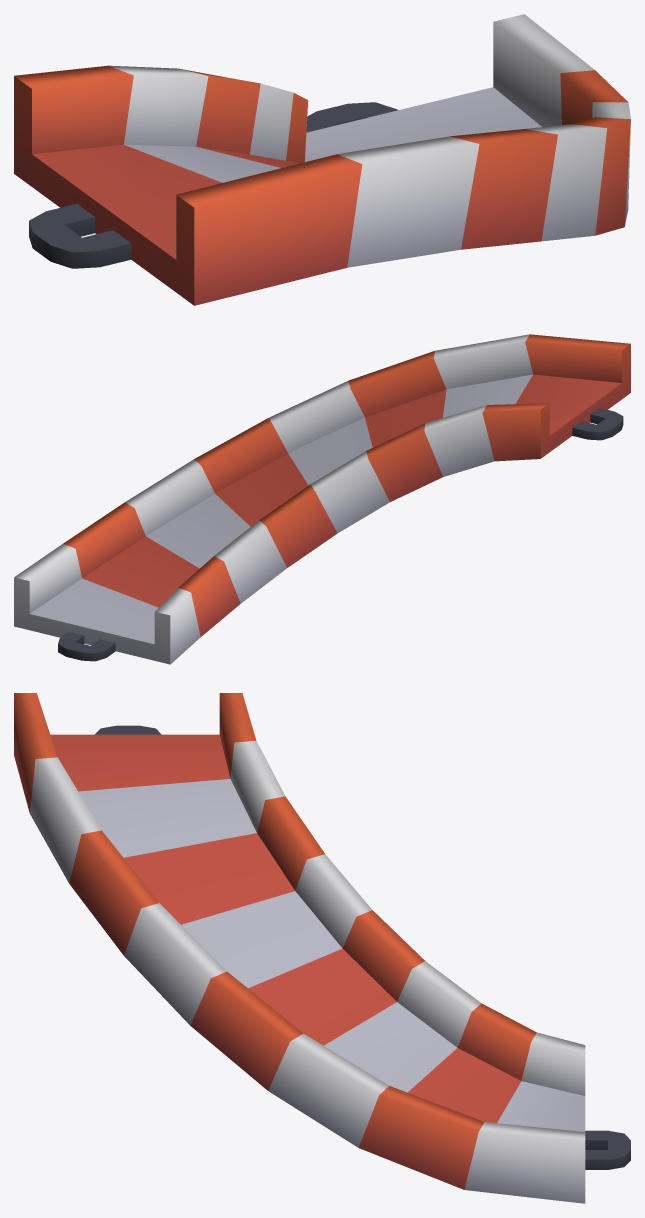
File: track-striped-narrow-corner-small-ramp.glb
3 views of the same model, one above another, from view 1: azimuth 30°, elevation 25°; view 2: azimuth 150°, elevation 25°; view 3: azimuth 270°, elevation 25° (orthographic). The views are drawn at different scales.
Parts seen in each view (by area): view 1: track-striped-narrow-corner-small-ramp; view 2: track-striped-narrow-corner-small-ramp; view 3: track-striped-narrow-corner-small-ramp.
Part boxes in pixels (bbox=[...]): track-striped-narrow-corner-small-ramp: bbox=[14, 14, 630, 305]; track-striped-narrow-corner-small-ramp: bbox=[14, 334, 630, 664]; track-striped-narrow-corner-small-ramp: bbox=[14, 693, 630, 1203].
Size of the model in its own units: 2.7 by 1.3 by 2.7.
